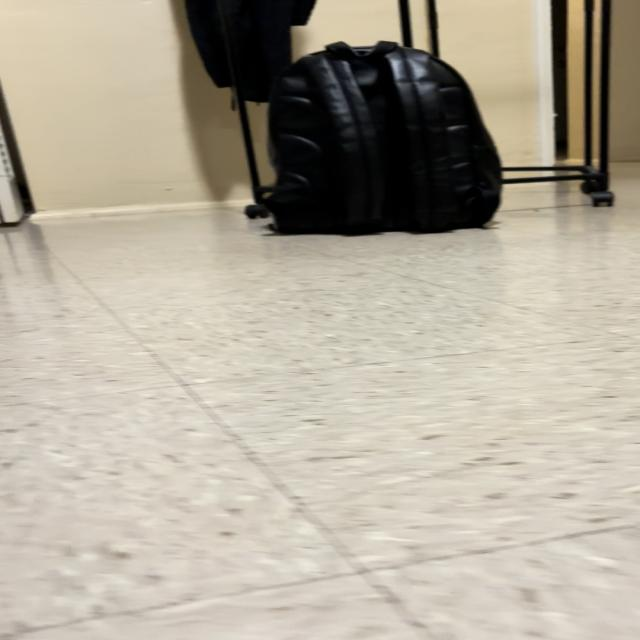backpack: (265, 41, 501, 232)
